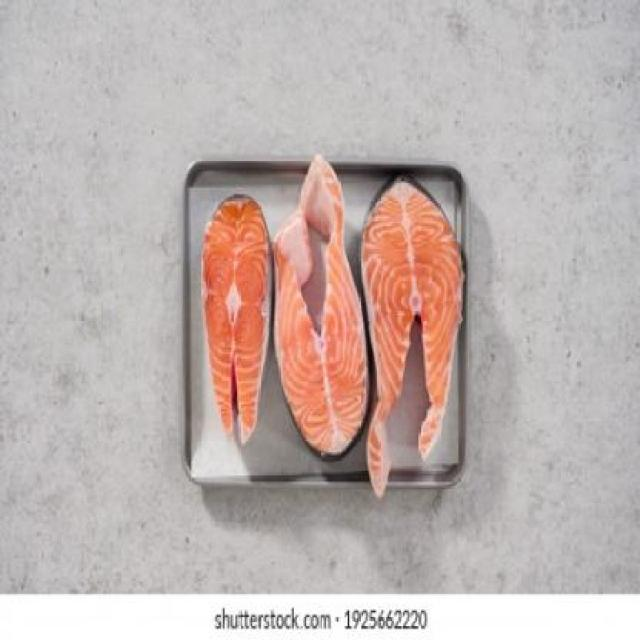salmon: (357, 158, 462, 502), (260, 158, 374, 470), (190, 188, 278, 448)
